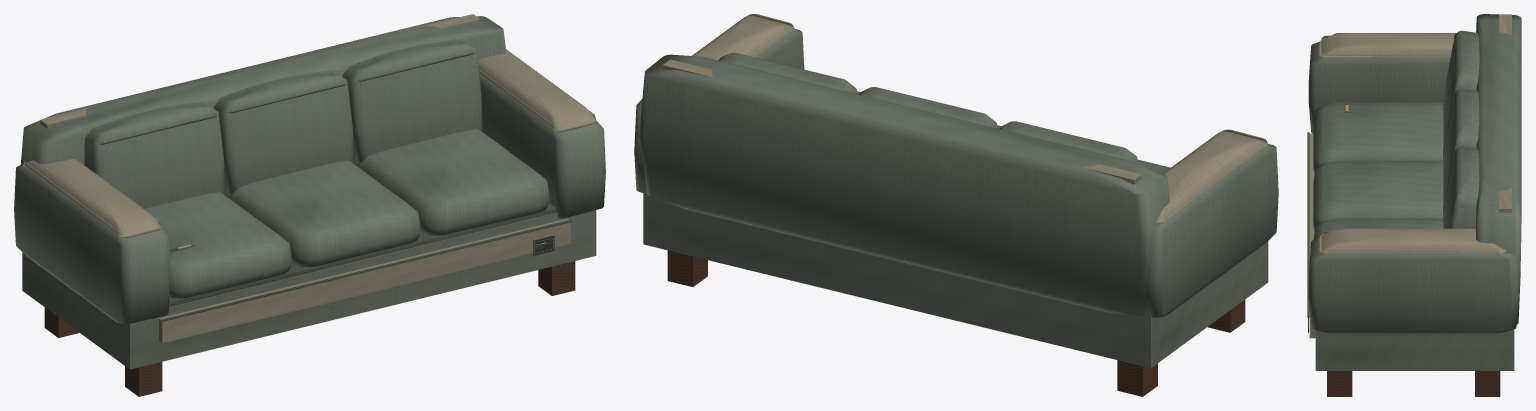
File: PZ_FIELDHAVEN_Worn_Sofa_3Seat.glb
3 renders of one model, left to right at view 1: azimuth 30°, elevation 25°; view 2: azimuth 150°, elevation 25°; view 3: azimuth 270°, elevation 25°, orthographic. The views are drawn at different scales.
Parts seen in each view (by area): view 1: RENDER_Sofa_Base_Upholstered_Box, RENDER_Sofa_Arm_L_CushionedMain, RENDER_Sofa_SeatCushion_C_REMOVABLE, RENDER_Sofa_SeatCushion_B_REMOVABLE, RENDER_Sofa_RearBack_Solid_Carcass, RENDER_Sofa_BackCushion_C_REMOVABLE, RENDER_Sofa_BackCushion_B_REMOVABLE, RENDER_Sofa_BackCushion_A_REMOVABLE, RENDER_Sofa_SeatCushion_A_REMOVABLE, RENDER_Sofa_Front_Apron_Worn_Trim, RENDER_Sofa_Arm_R_CushionedMain, RENDER_Sofa_Arm_L_TopWornRest (+7 smaller); view 2: RENDER_Sofa_RearBack_Solid_Carcass, RENDER_Sofa_Base_Upholstered_Box, RENDER_Sofa_Arm_L_CushionedMain, RENDER_Sofa_Arm_L_TopWornRest, RENDER_Sofa_Arm_R_TopWornRest, RENDER_Sofa_Arm_R_CushionedMain, RENDER_Sofa_BackCushion_A_REMOVABLE, RENDER_Sofa_BackCushion_B_REMOVABLE, RENDER_Sofa_BackCushion_C_REMOVABLE, RENDER_Sofa_Foot_L_Rear_Walnut, RENDER_Sofa_Foot_R_Rear_Walnut, RENDER_Sofa_RearBack_Top_WearBand (+1 smaller); view 3: RENDER_Sofa_Arm_R_CushionedMain, RENDER_Sofa_RearBack_Solid_Carcass, RENDER_Sofa_SeatCushion_B_REMOVABLE, RENDER_Sofa_SeatCushion_A_REMOVABLE, RENDER_Sofa_Base_Upholstered_Box, RENDER_Sofa_Arm_L_CushionedMain, RENDER_Sofa_Arm_R_TopWornRest, RENDER_Sofa_Arm_L_TopWornRest, RENDER_Sofa_BackCushion_C_REMOVABLE, RENDER_Sofa_BackCushion_A_REMOVABLE, RENDER_Sofa_BackCushion_B_REMOVABLE, RENDER_Sofa_SeatCushion_C_REMOVABLE (+5 smaller).
Part boxes in pixels (left/top/right/bottom): RENDER_Sofa_Base_Upholstered_Box: left=22, top=210, right=596, bottom=369; RENDER_Sofa_Arm_L_CushionedMain: left=14, top=165, right=170, bottom=323; RENDER_Sofa_SeatCushion_C_REMOVABLE: left=355, top=129, right=549, bottom=235; RENDER_Sofa_SeatCushion_B_REMOVABLE: left=226, top=160, right=420, bottom=266; RENDER_Sofa_RearBack_Solid_Carcass: left=20, top=16, right=505, bottom=195; RENDER_Sofa_BackCushion_C_REMOVABLE: left=342, top=39, right=482, bottom=164; RENDER_Sofa_BackCushion_B_REMOVABLE: left=213, top=71, right=354, bottom=195; RENDER_Sofa_BackCushion_A_REMOVABLE: left=84, top=102, right=225, bottom=208; RENDER_Sofa_SeatCushion_A_REMOVABLE: left=144, top=192, right=292, bottom=298; RENDER_Sofa_Front_Apron_Worn_Trim: left=159, top=218, right=570, bottom=343; RENDER_Sofa_Arm_R_CushionedMain: left=479, top=74, right=605, bottom=218; RENDER_Sofa_Arm_L_TopWornRest: left=23, top=159, right=161, bottom=237; RENDER_Sofa_RearBack_Solid_Carcass: left=639, top=54, right=1169, bottom=315; RENDER_Sofa_Base_Upholstered_Box: left=643, top=193, right=1268, bottom=368; RENDER_Sofa_Arm_L_CushionedMain: left=1144, top=144, right=1278, bottom=317; RENDER_Sofa_Arm_L_TopWornRest: left=1155, top=129, right=1268, bottom=224; RENDER_Sofa_Arm_R_TopWornRest: left=692, top=14, right=794, bottom=60; RENDER_Sofa_Arm_R_CushionedMain: left=634, top=29, right=804, bottom=193; RENDER_Sofa_BackCushion_A_REMOVABLE: left=999, top=121, right=1137, bottom=163; RENDER_Sofa_BackCushion_B_REMOVABLE: left=859, top=87, right=997, bottom=128; RENDER_Sofa_BackCushion_C_REMOVABLE: left=718, top=52, right=857, bottom=94; RENDER_Sofa_Foot_L_Rear_Walnut: left=1117, top=360, right=1157, bottom=396; RENDER_Sofa_Foot_R_Rear_Walnut: left=667, top=250, right=707, bottom=286; RENDER_Sofa_RearBack_Top_WearBand: left=662, top=59, right=1141, bottom=184; RENDER_Sofa_Arm_R_CushionedMain: left=1308, top=237, right=1518, bottom=334; RENDER_Sofa_RearBack_Solid_Carcass: left=1475, top=14, right=1521, bottom=324; RENDER_Sofa_SeatCushion_B_REMOVABLE: left=1313, top=160, right=1443, bottom=230; RENDER_Sofa_SeatCushion_A_REMOVABLE: left=1313, top=102, right=1443, bottom=172; RENDER_Sofa_Base_Upholstered_Box: left=1315, top=329, right=1514, bottom=370; RENDER_Sofa_Arm_L_CushionedMain: left=1308, top=41, right=1450, bottom=133; RENDER_Sofa_Arm_R_TopWornRest: left=1319, top=228, right=1507, bottom=253; RENDER_Sofa_Arm_L_TopWornRest: left=1319, top=33, right=1456, bottom=57; RENDER_Sofa_BackCushion_C_REMOVABLE: left=1443, top=146, right=1479, bottom=228; RENDER_Sofa_BackCushion_A_REMOVABLE: left=1443, top=30, right=1479, bottom=156; RENDER_Sofa_BackCushion_B_REMOVABLE: left=1443, top=88, right=1479, bottom=214; RENDER_Sofa_SeatCushion_C_REMOVABLE: left=1313, top=218, right=1443, bottom=239.
Size of the model in its own units: 2.18 by 0.8874 by 0.9067.
7 materials, 7 textured.
